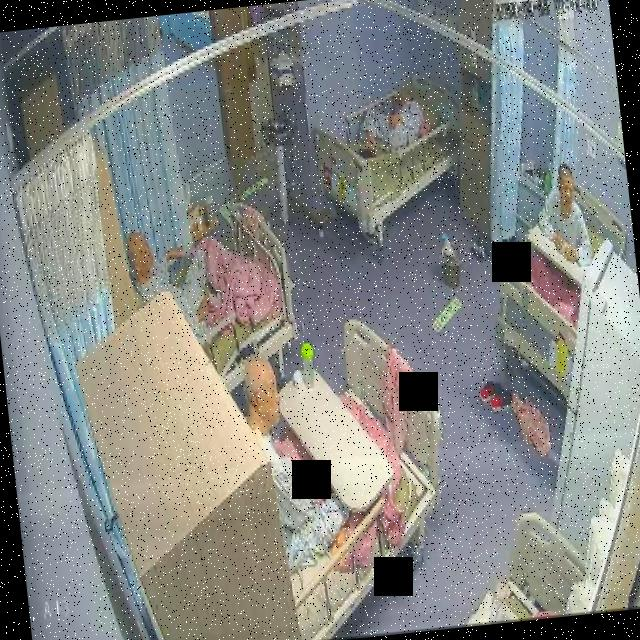bed: (233, 315, 460, 640), (480, 178, 640, 406), (150, 204, 300, 400), (311, 68, 468, 240)
lie: (350, 82, 434, 160)
patient: (240, 356, 356, 572), (124, 210, 223, 354), (534, 158, 594, 270), (350, 83, 434, 158)
sit: (240, 357, 355, 572), (124, 206, 258, 353), (532, 158, 594, 270)
